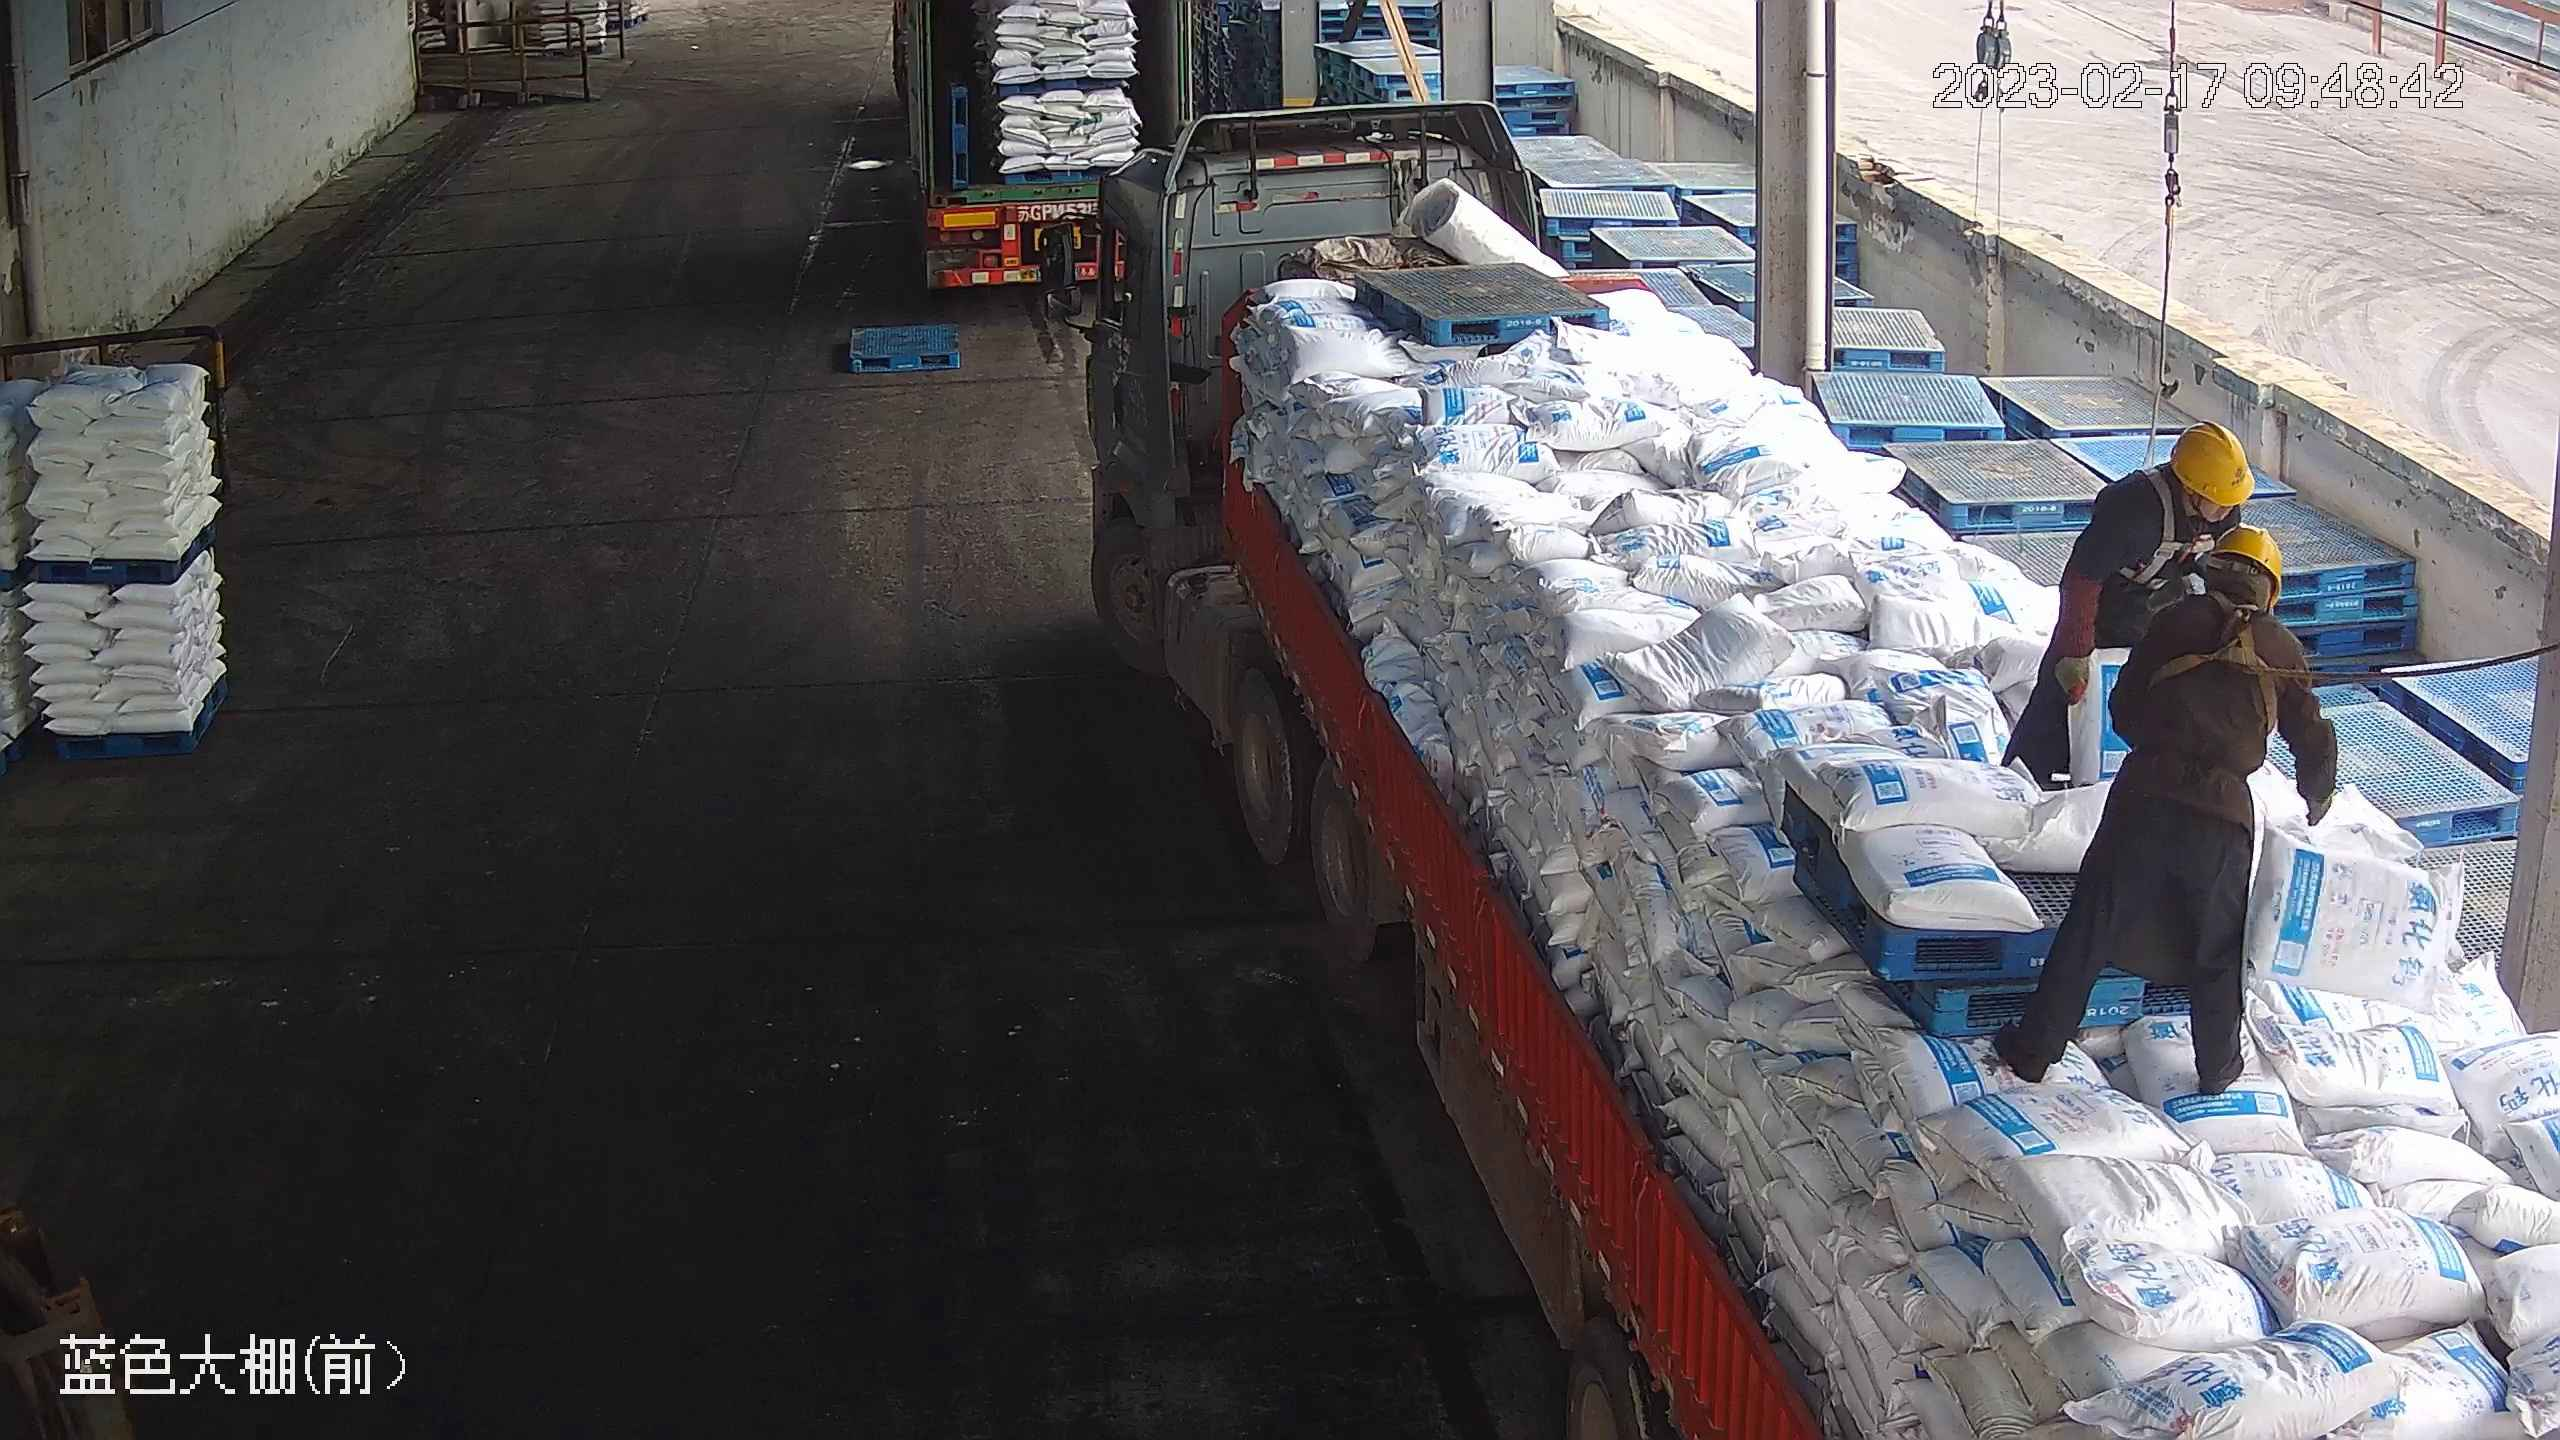belt: (2166, 589, 2295, 697), (2128, 473, 2234, 589)
head: (2075, 416, 2258, 572), (2146, 525, 2308, 678)
helmet: (2170, 417, 2261, 508), (2210, 522, 2282, 600)
people: (1987, 522, 2338, 1097), (2009, 413, 2252, 799)
truck: (1054, 155, 2555, 1433), (885, 1, 1236, 304)
